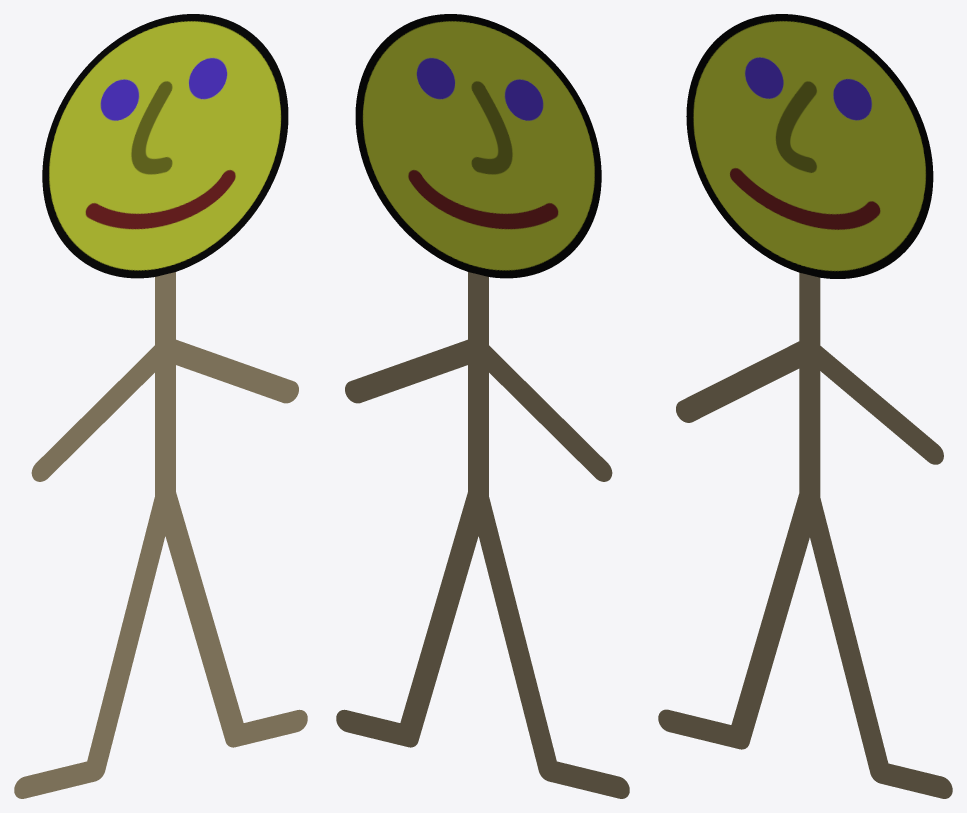
Rendered from stickfigure.obj.
3 renders of one model, left to right at view 1: azimuth 30°, elevation 25°; view 2: azimuth 150°, elevation 25°; view 3: azimuth 330°, elevation 25°, orthographic.
Visible parts, largest first — view 1: path1431; view 2: path1431; view 3: path1431.
Boxes of the visible parts, <box> form: path1431: <box>14,14,307,798</box>; path1431: <box>336,14,629,798</box>; path1431: <box>658,14,952,798</box>.
Size of the model in its own units: 0.2428 by 0.5902 by 0.
